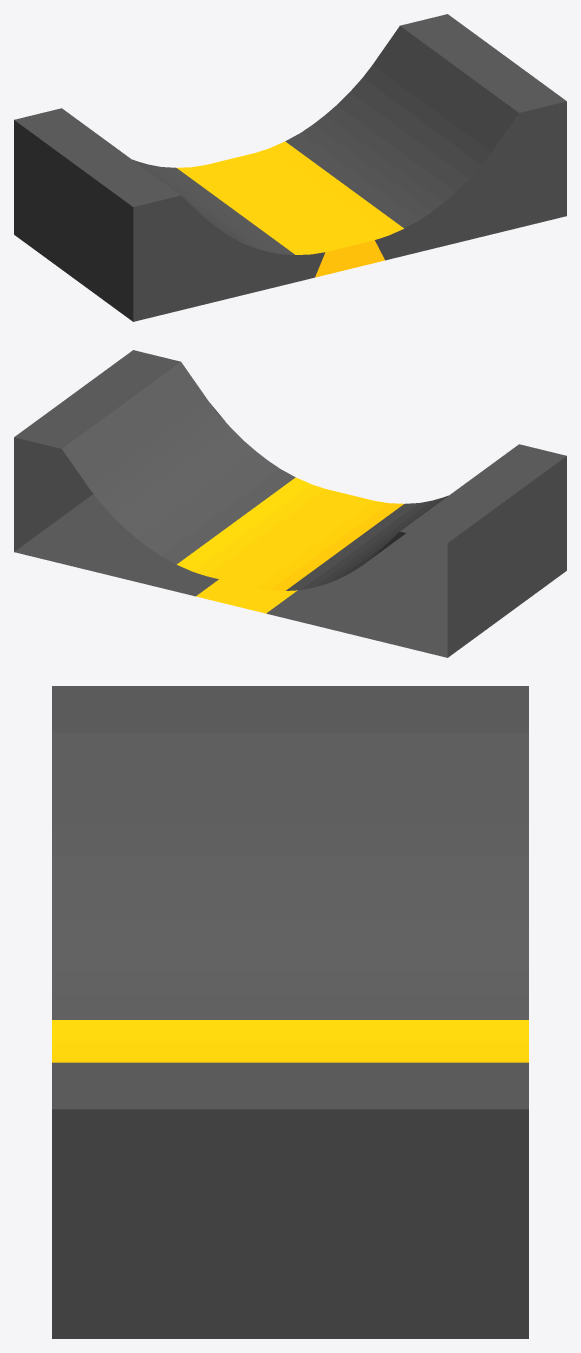
The model's file is Spline_Slip_Halfpipe_3.fbx.
3 views of the same model, one above another, from view 1: azimuth 30°, elevation 25°; view 2: azimuth 150°, elevation 25°; view 3: azimuth 270°, elevation 25° (orthographic). The views are drawn at different scales.
Visible parts, largest first — view 1: Spline_Slip_Halfpipe 3; view 2: Spline_Slip_Halfpipe 3; view 3: Spline_Slip_Halfpipe 3.
Boxes of the visible parts, left/top/right/bottom form: Spline_Slip_Halfpipe 3: left=14, top=14, right=566, bottom=321; Spline_Slip_Halfpipe 3: left=14, top=350, right=566, bottom=657; Spline_Slip_Halfpipe 3: left=52, top=686, right=528, bottom=1338.
Size of the model in its own units: 2100 by 531 by 1000.
